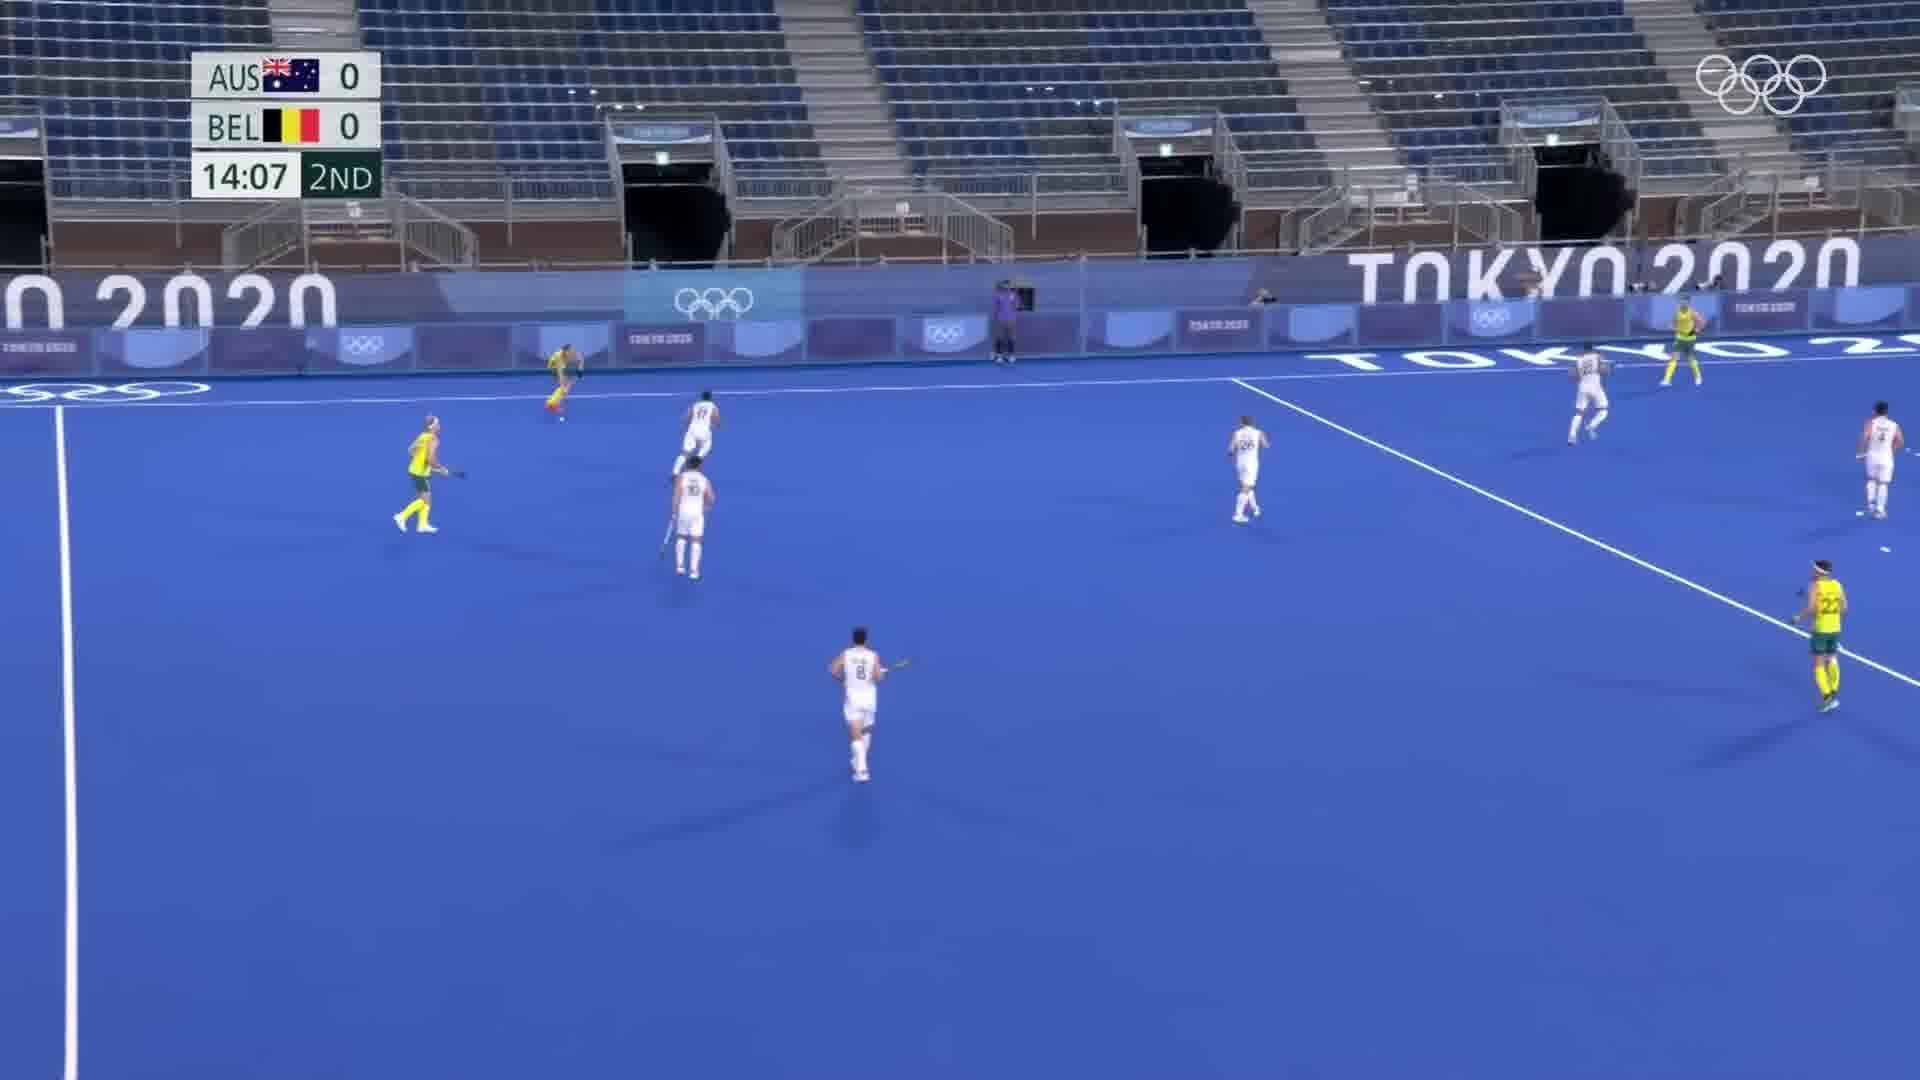ball: (555, 414, 568, 429)
